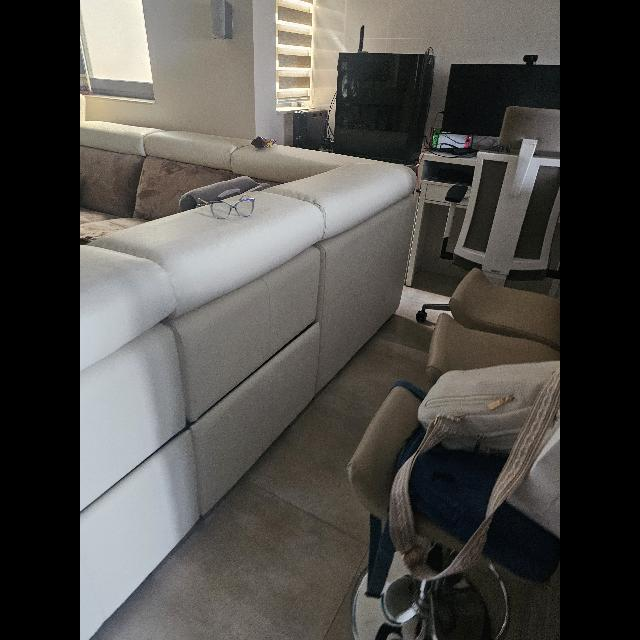glasses: (198, 195, 255, 219)
